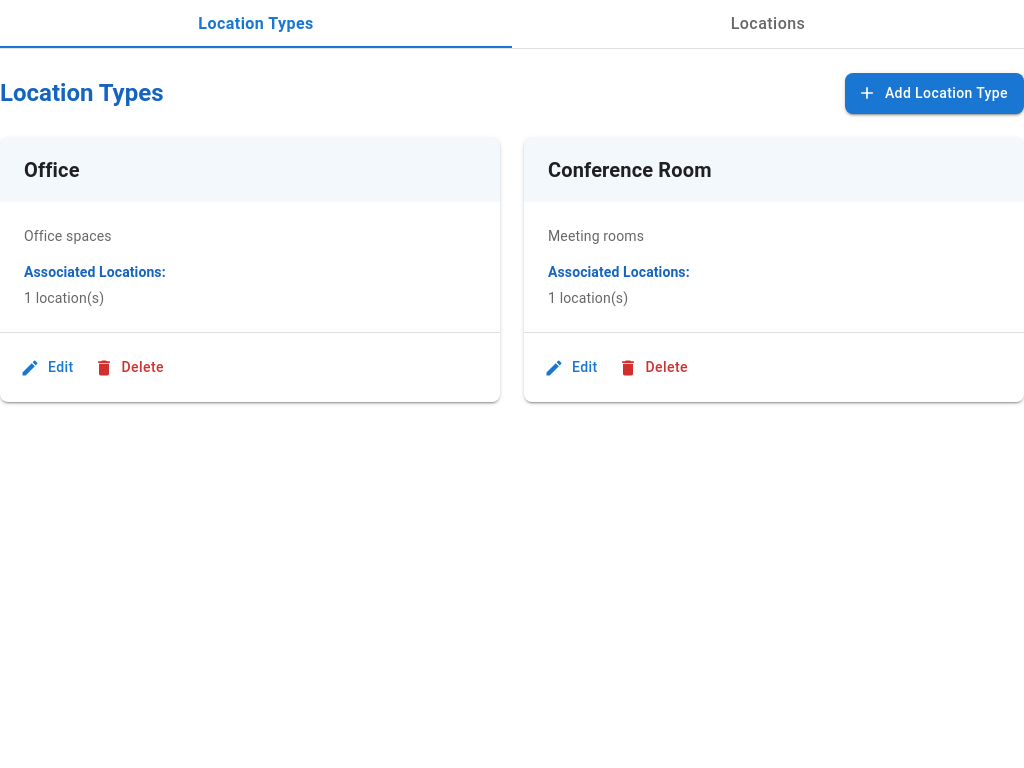
it: LocationManagement › opens create location type dialog
This screenshot has width=1024, height=768.
Click the button "Add Location Type": point(934, 93) left=845, top=73, right=1023, bottom=114
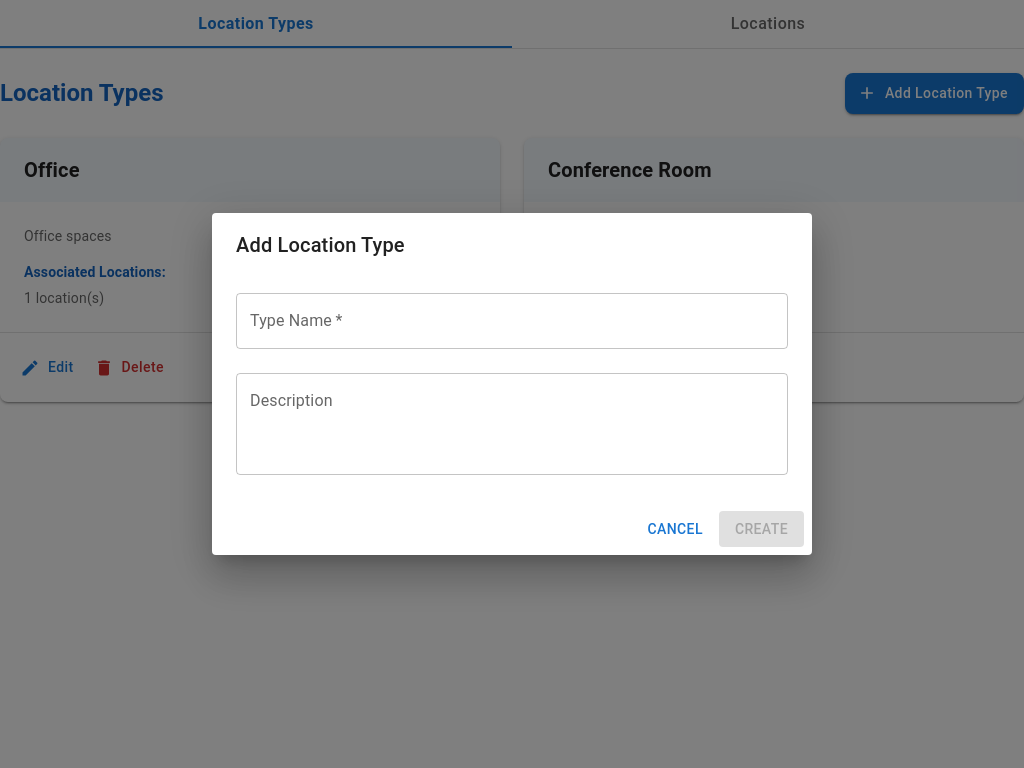
Expected: the dialog is shown, left=212, top=213, right=812, bottom=555
Expected: the field labelled "Type Name *" is shown, left=236, top=293, right=788, bottom=349
